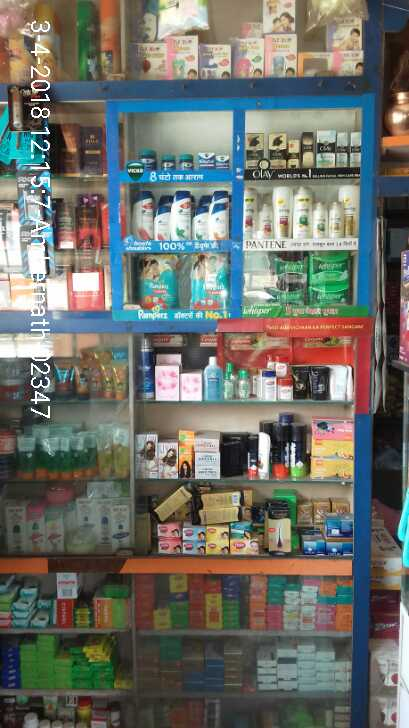vicks: (133, 145, 232, 176)
